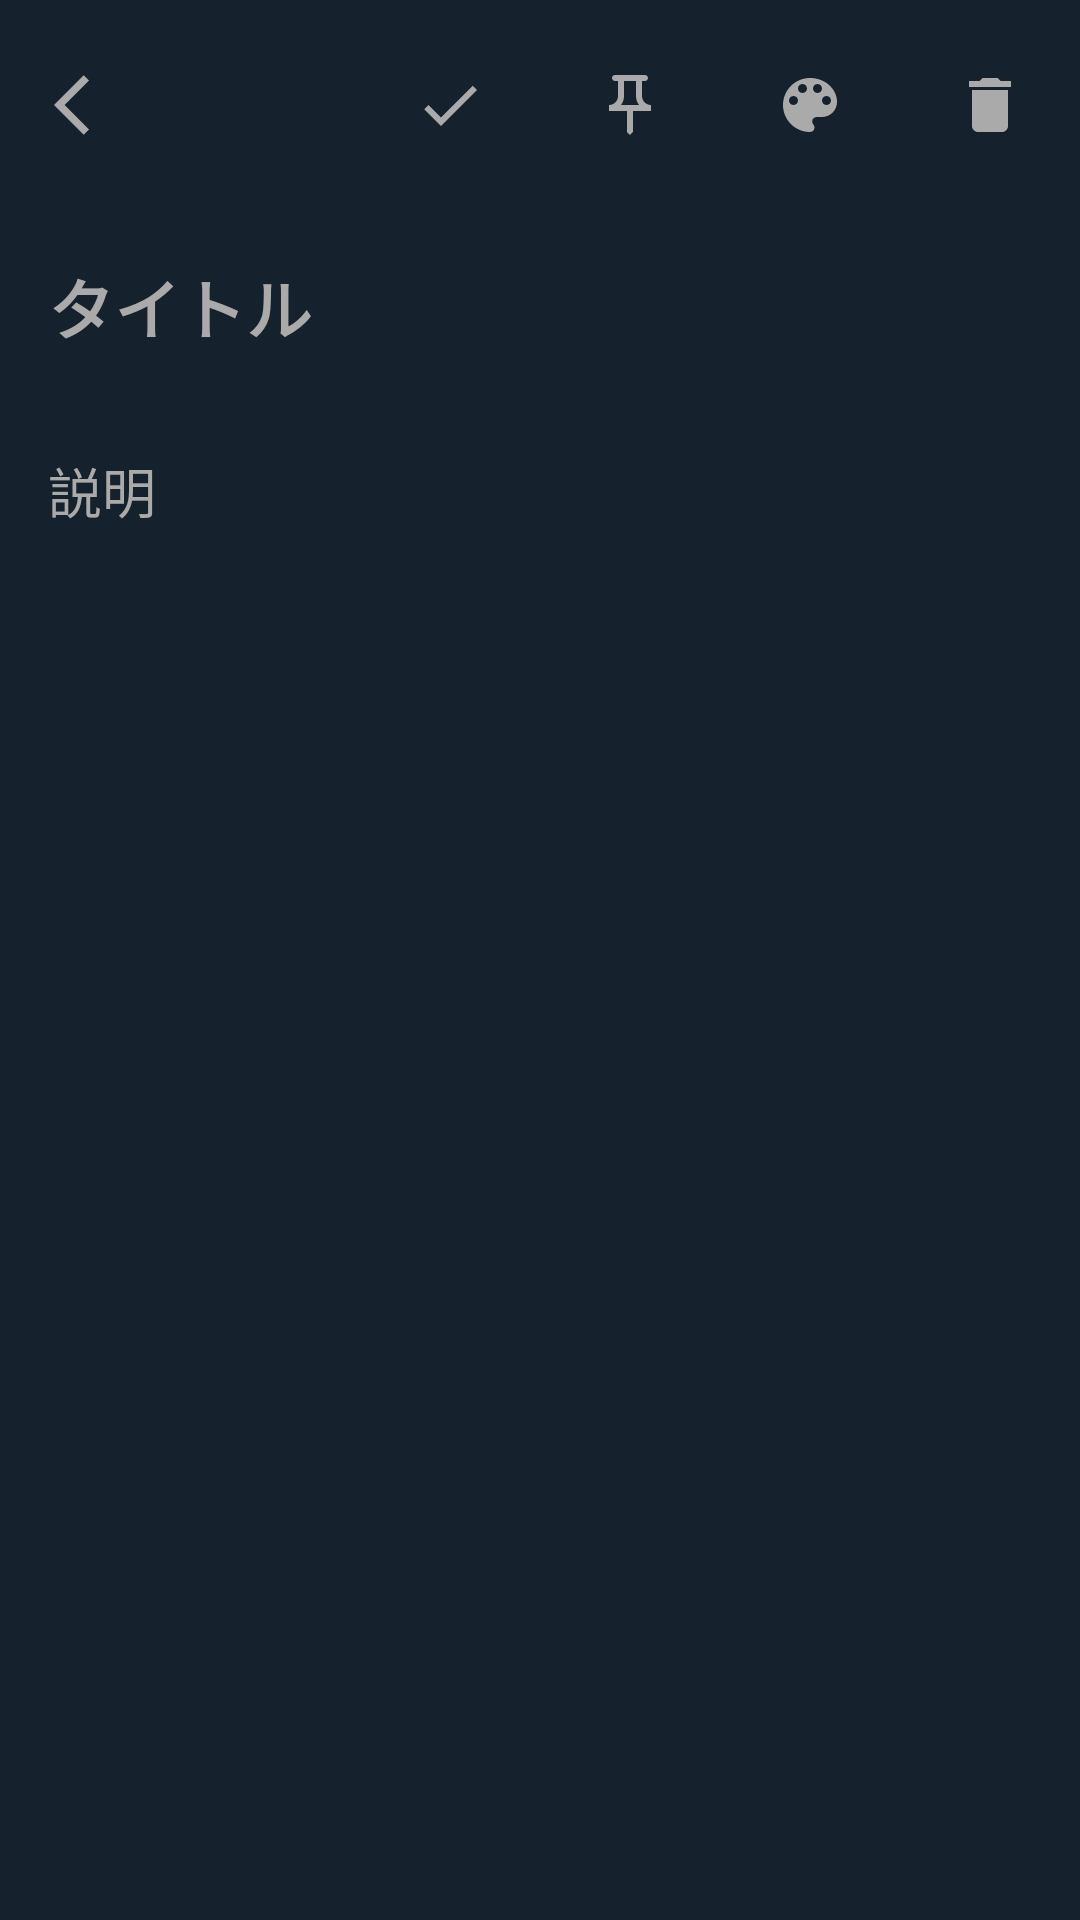

Icon bounding boxes for this 1080 x 1920 phone screenshot, format (x1, y1, x2, y2):
arrow back: (54, 75, 89, 135)
check: (424, 86, 477, 126)
delete: (969, 78, 1011, 132)
push pin: (609, 75, 651, 135)
